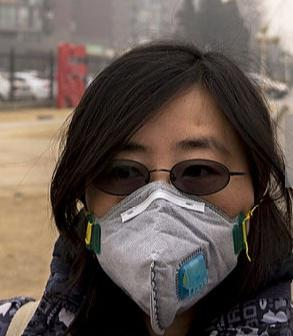OK: (91, 125, 243, 320)
